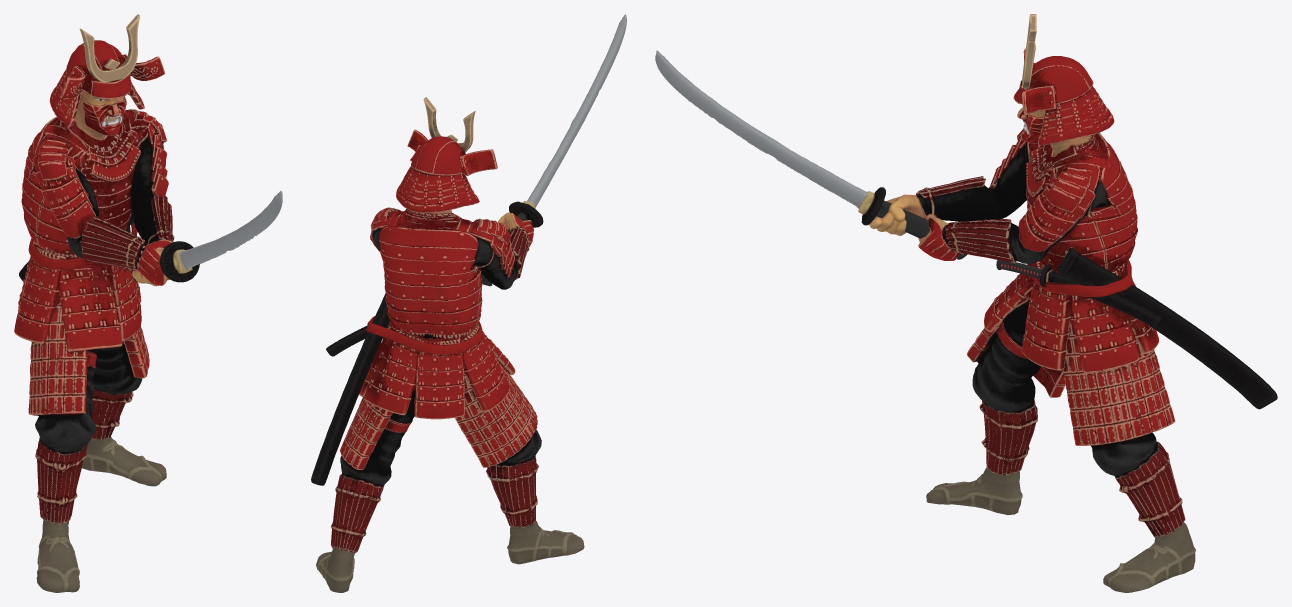
Rendered from MZ4250 - Samurai Melee 1.glb.
3 views of the same model, side by side, from view 1: azimuth 30°, elevation 25°; view 2: azimuth 150°, elevation 25°; view 3: azimuth 270°, elevation 25° (orthographic). The views are drawn at different scales.
Visible parts, largest first — view 1: Samurai melee.004; view 2: Samurai melee.004; view 3: Samurai melee.004.
Boxes of the visible parts, bbox=[...] form: Samurai melee.004: bbox=[14, 14, 282, 592]; Samurai melee.004: bbox=[311, 14, 626, 592]; Samurai melee.004: bbox=[655, 14, 1277, 592].
Size of the model in its own units: 1.9 by 4.39 by 4.78.
6 materials, 6 textured.
